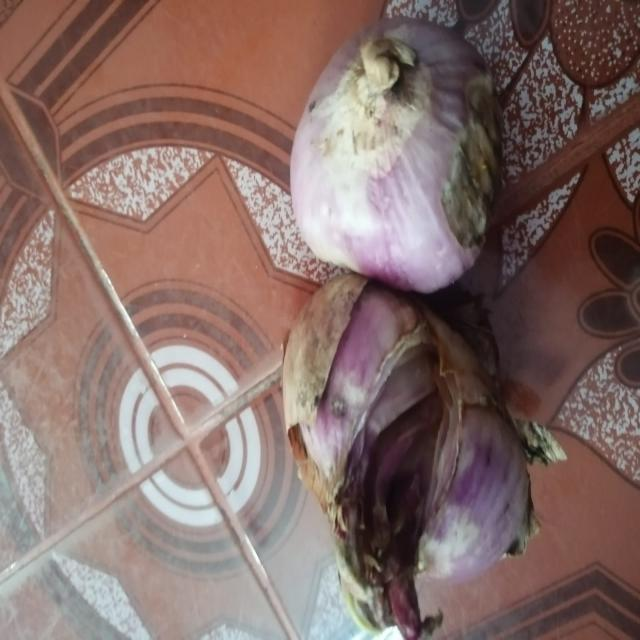rotten: (359, 388, 456, 530), (462, 86, 492, 232)
sprouting: (341, 561, 390, 633)
